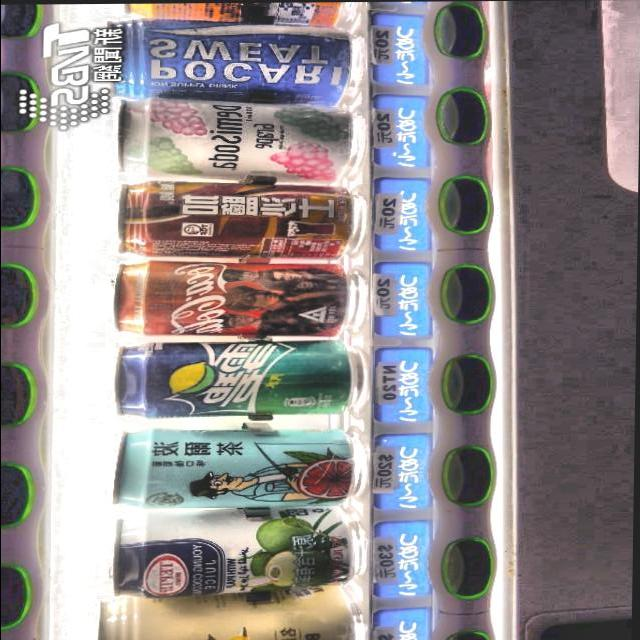Aluminum Can: (98, 15, 364, 108), (106, 507, 370, 600), (106, 94, 362, 184), (105, 425, 366, 511), (112, 176, 364, 262), (110, 257, 364, 341), (107, 338, 367, 420), (90, 581, 370, 640)
